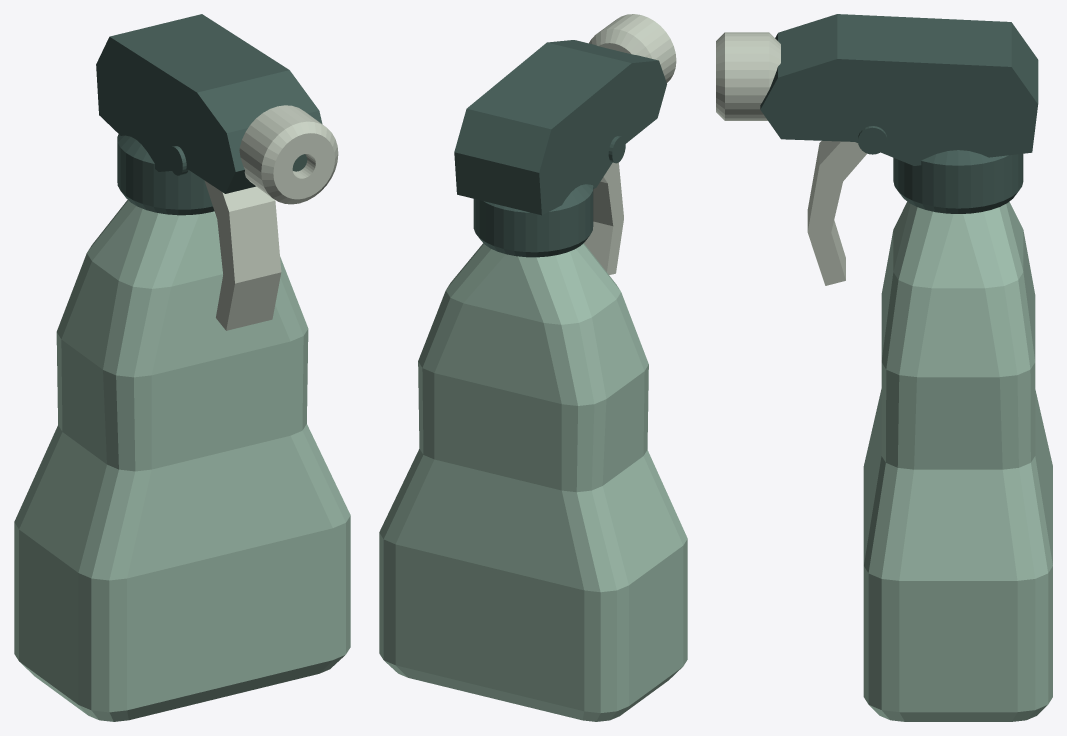
3 renders of one model, left to right at view 1: azimuth 30°, elevation 25°; view 2: azimuth 150°, elevation 25°; view 3: azimuth 270°, elevation 25°, orthographic. The views are drawn at different scales.
Parts seen in each view (by area): view 1: WholeWaistedRoundedReservoirExteriorAndNeck, WholeHorizontalTriggerHeadHousing, WholeCurvedFingerTrigger, WholeForwardAnnularNozzleCap, WholeNeckSeatedCollar; view 2: WholeWaistedRoundedReservoirExteriorAndNeck, WholeHorizontalTriggerHeadHousing, WholeNeckSeatedCollar, WholeForwardAnnularNozzleCap, WholeCurvedFingerTrigger; view 3: WholeWaistedRoundedReservoirExteriorAndNeck, WholeHorizontalTriggerHeadHousing, WholeNeckSeatedCollar, WholeForwardAnnularNozzleCap, WholeCurvedFingerTrigger, WholeRetainedTransverseTriggerPivot.
Part boxes in pixels (x1,y1,x2,y2): WholeWaistedRoundedReservoirExteriorAndNeck: [14, 200, 350, 721]; WholeHorizontalTriggerHeadHousing: [96, 14, 322, 193]; WholeCurvedFingerTrigger: [204, 180, 281, 330]; WholeForwardAnnularNozzleCap: [239, 105, 338, 204]; WholeNeckSeatedCollar: [117, 134, 214, 215]; WholeWaistedRoundedReservoirExteriorAndNeck: [379, 243, 687, 721]; WholeHorizontalTriggerHeadHousing: [454, 40, 666, 215]; WholeNeckSeatedCollar: [473, 184, 593, 257]; WholeForwardAnnularNozzleCap: [589, 14, 676, 82]; WholeCurvedFingerTrigger: [584, 162, 623, 274]; WholeWaistedRoundedReservoirExteriorAndNeck: [863, 201, 1052, 721]; WholeHorizontalTriggerHeadHousing: [760, 14, 1038, 165]; WholeNeckSeatedCollar: [893, 150, 1023, 213]; WholeForwardAnnularNozzleCap: [716, 32, 780, 120]; WholeCurvedFingerTrigger: [807, 140, 866, 285]; WholeRetainedTransverseTriggerPivot: [858, 126, 887, 154].
Size of the model in its own units: 0.104 by 0.234 by 0.114.
